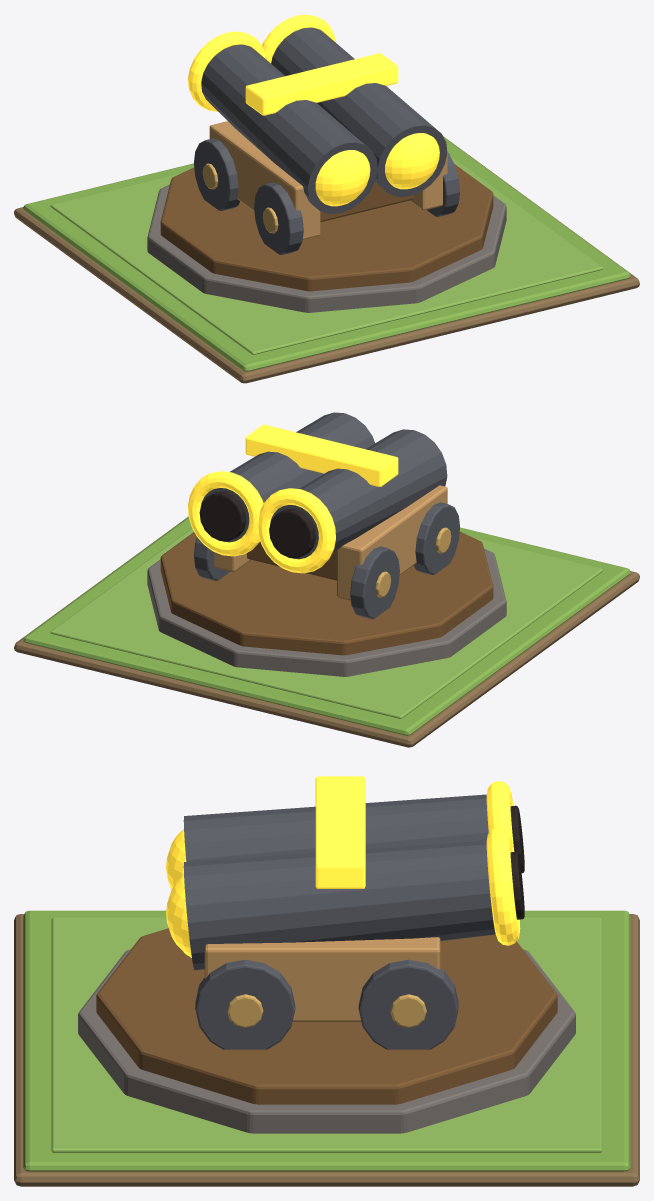
Rendered from double_cannon_lv5.glb.
3 views of the same model, one above another, from view 1: azimuth 30°, elevation 25°; view 2: azimuth 150°, elevation 25°; view 3: azimuth 270°, elevation 25° (orthographic). The views are drawn at different scales.
Parts seen in each view (by area): view 1: TurntableWood, Base_Inner, Base_Grass, TwinBarrel_-1, TurntableStone, Base_Dirt, TwinBarrel_1, TwinYokeStrap, DC_Cheek_-1, DC_Wheel_-1_-1, TwinBreech_1, TwinBreech_-1 (+6 smaller); view 2: TurntableWood, Base_Inner, Base_Grass, TurntableStone, Base_Dirt, TwinBarrel_-1, TwinYokeStrap, TwinBarrel_1, DC_Cheek_-1, TwinMuzzleLip_-1, TwinMuzzleLip_1, DC_Wheel_-1_1 (+6 smaller); view 3: Base_Inner, TurntableWood, Base_Grass, TwinBarrel_1, TurntableStone, Base_Dirt, TwinBarrel_-1, DC_Cheek_1, DC_Wheel_1_1, DC_Wheel_1_-1, TwinYokeStrap, TwinMuzzleLip_1 (+6 smaller).
Part boxes in pixels (<box>): TurntableWood: <box>160,164,493,291</box>; Base_Inner: <box>50,155,603,354</box>; Base_Grass: <box>23,137,630,371</box>; TwinBarrel_-1: <box>201,44,377,213</box>; TurntableStone: <box>147,184,506,312</box>; Base_Dirt: <box>14,136,639,383</box>; TwinBarrel_1: <box>271,27,447,196</box>; TwinYokeStrap: <box>245,53,398,115</box>; DC_Cheek_-1: <box>209,121,320,239</box>; DC_Wheel_-1_-1: <box>254,182,303,254</box>; TwinBreech_1: <box>385,133,439,189</box>; TwinBreech_-1: <box>315,150,370,206</box>; TurntableWood: <box>160,531,493,655</box>; Base_Inner: <box>50,528,603,718</box>; Base_Grass: <box>23,517,630,735</box>; TurntableStone: <box>147,548,506,676</box>; Base_Dirt: <box>14,516,639,747</box>; TwinBarrel_-1: <box>270,429,447,559</box>; TwinYokeStrap: <box>245,424,398,486</box>; TwinBarrel_1: <box>200,412,374,542</box>; DC_Cheek_-1: <box>337,485,447,600</box>; TwinMuzzleLip_-1: <box>258,488,335,573</box>; TwinMuzzleLip_1: <box>188,471,263,556</box>; DC_Wheel_-1_1: <box>350,546,399,619</box>; Base_Inner: <box>51,917,602,1152</box>; TurntableWood: <box>96,928,557,1104</box>; Base_Grass: <box>23,910,630,1171</box>; TwinBarrel_1: <box>183,840,495,970</box>; TurntableStone: <box>78,949,575,1133</box>; Base_Dirt: <box>14,914,639,1186</box>; TwinBarrel_-1: <box>183,794,488,861</box>; DC_Cheek_1: <box>204,937,440,1021</box>; DC_Wheel_1_1: <box>358,959,458,1049</box>; DC_Wheel_1_-1: <box>195,959,295,1049</box>; TwinYokeStrap: <box>315,776,365,888</box>; TwinMuzzleLip_1: <box>486,827,520,945</box>.
Bounding box in the file's own units: 2.76 × 1.2 × 2.76.
